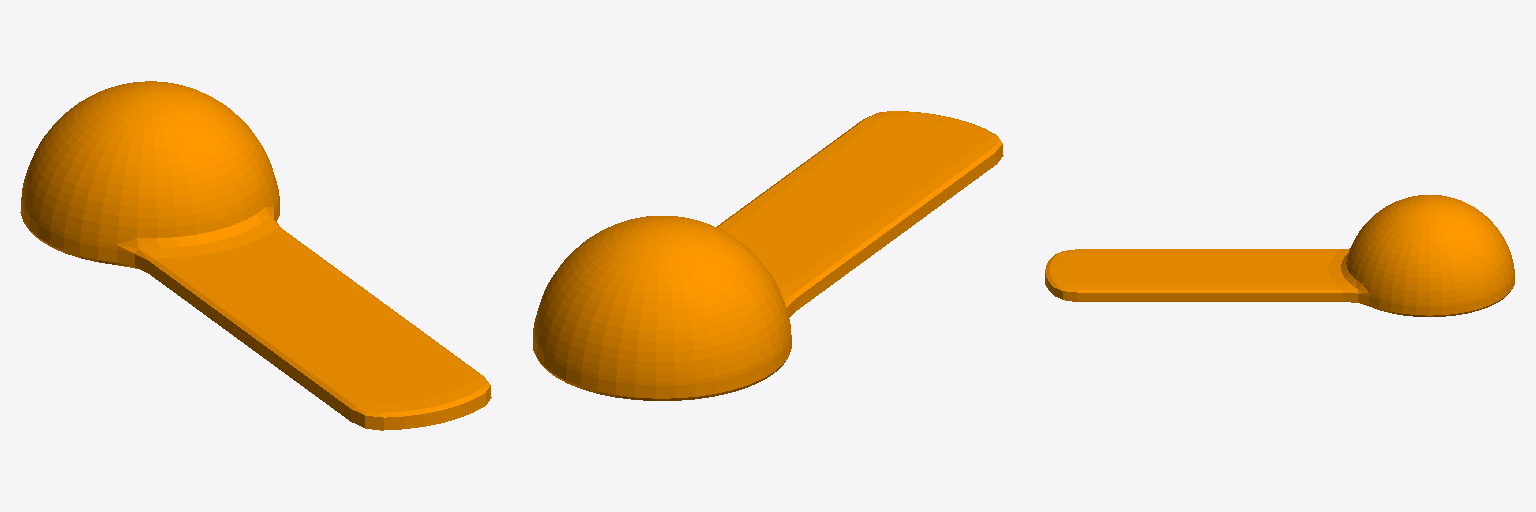
URDF robot description (orange_spoon.urdf):
<?xml version="0.0" ?>
<robot name="orange_spoon.urdf">
  <link name="baseLink">
    <contact>
      <friction_anchor/>
      <lateral_friction value="1.0"/>
    </contact>
    <inertial>
      <origin rpy="0 0 0" xyz="0 0 0"/>
       <mass value="0.02551455"/>
       <inertia ixx="1" ixy="0" ixz="0" iyy="1" iyz="0" izz="1"/>
    </inertial>
    <visual>
      <origin rpy="0 0 0" xyz="0 0 0"/>
      <geometry>
        <mesh filename="orange_spoon.obj" scale="1 1 1"/>
      </geometry>
       <material name="orange">
        <color rgba="1 0.6 0 1"/>
      </material>
    </visual>
    <collision>
      <origin rpy="0 0 0" xyz="0 0 0"/>
      <geometry>
        <mesh filename="orange_spoon_vhacd.obj" scale="1 1 1"/>
      </geometry>
    </collision>
  </link>
</robot>

--- Render facts (derived) ---
Views: 3 orthographic renders of the robot side by side, from view 1: azimuth 30°, elevation 25°; view 2: azimuth 150°, elevation 25°; view 3: azimuth 270°, elevation 25°.
Model orange_spoon.urdf with 1 links and 0 joints (none), rooted at baseLink, posed all joints at 0.
Visible links, largest first — view 1: baseLink; view 2: baseLink; view 3: baseLink.
Link boxes in pixels (left/top/right/bottom): baseLink: left=20, top=81, right=491, bottom=430; baseLink: left=533, top=111, right=1003, bottom=400; baseLink: left=1045, top=195, right=1514, bottom=316.
Bounding box of the posed robot: 0.0558 × 0.153 × 0.0284 m (x, y, z).
1 mesh visuals loaded from 1 distinct referenced files (1 OBJ).